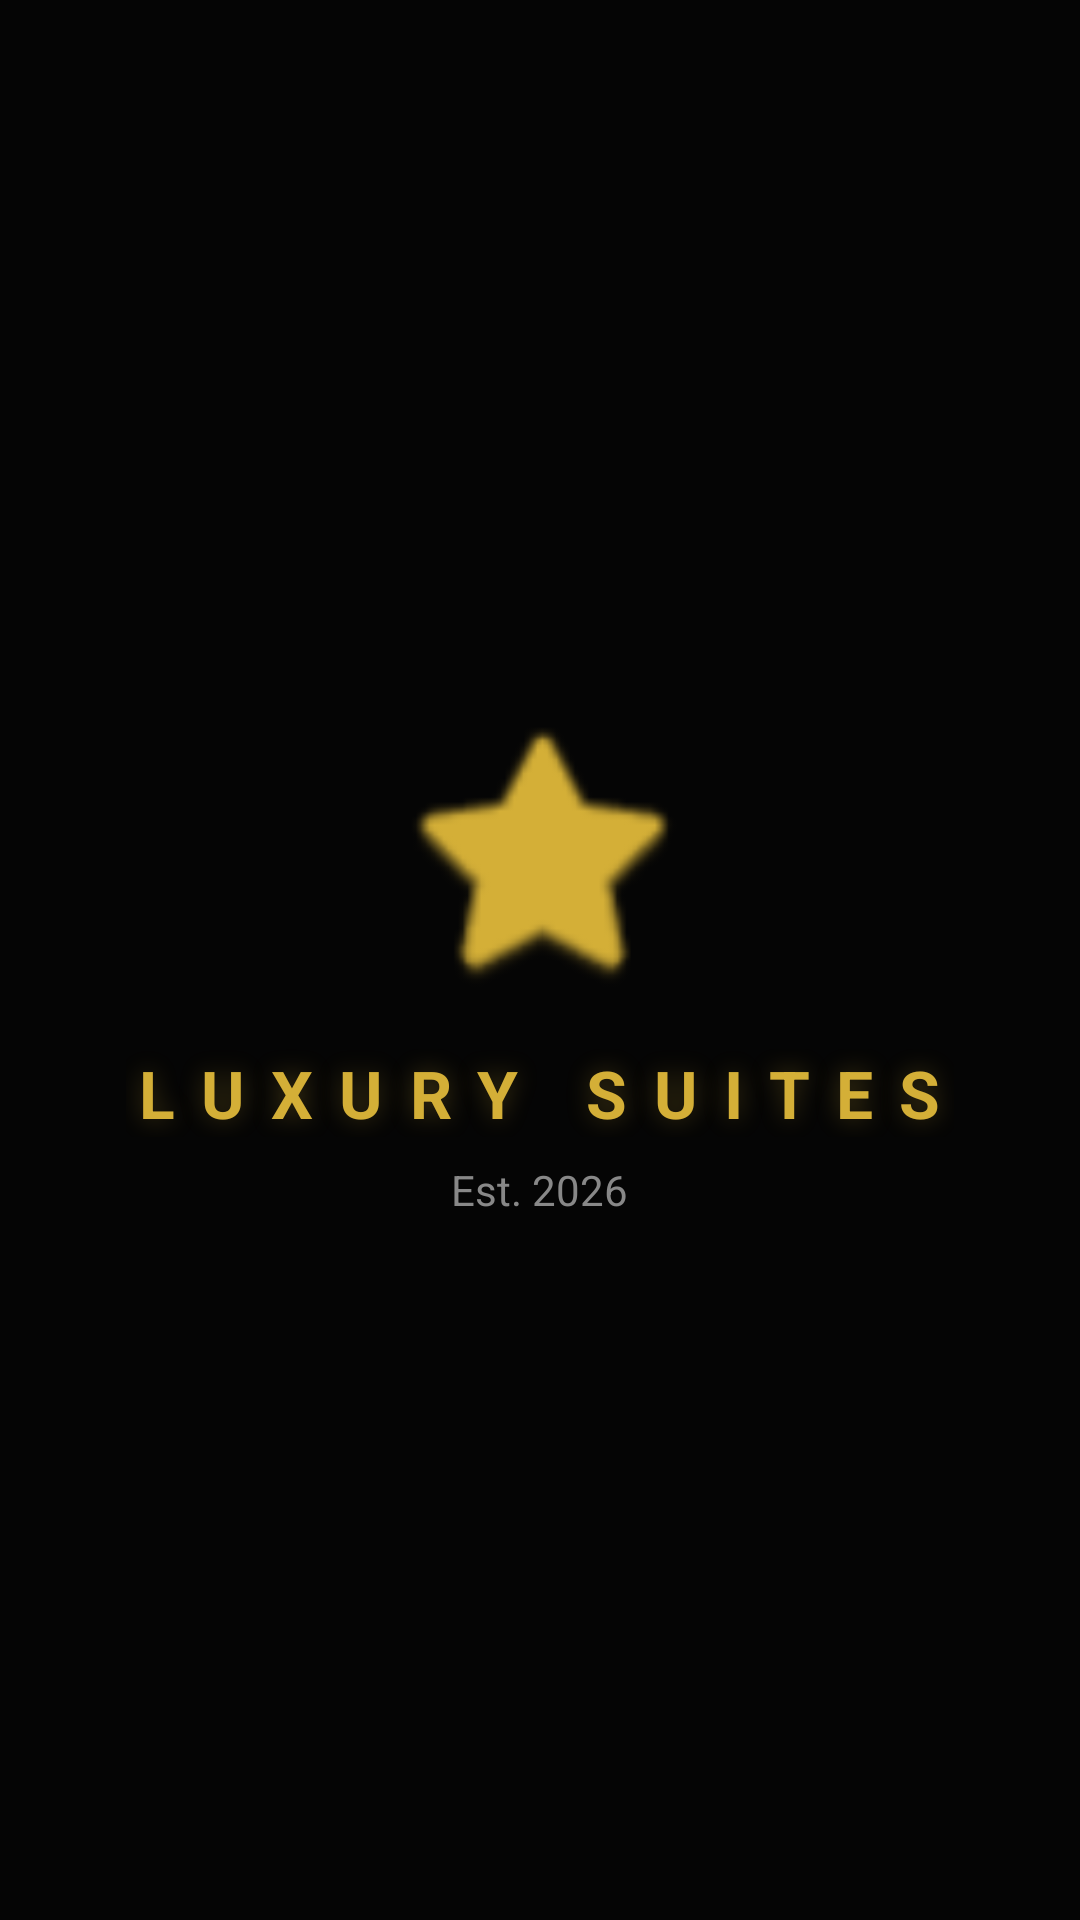

Icon click points for this 1080px x 1920px phone screenshot, format point (x, y):
star on: point (542, 853)
